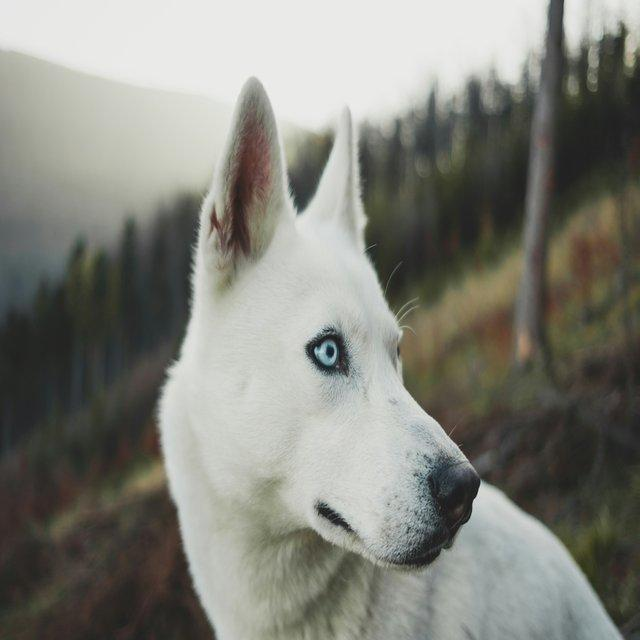husky: (154, 74, 626, 639)
